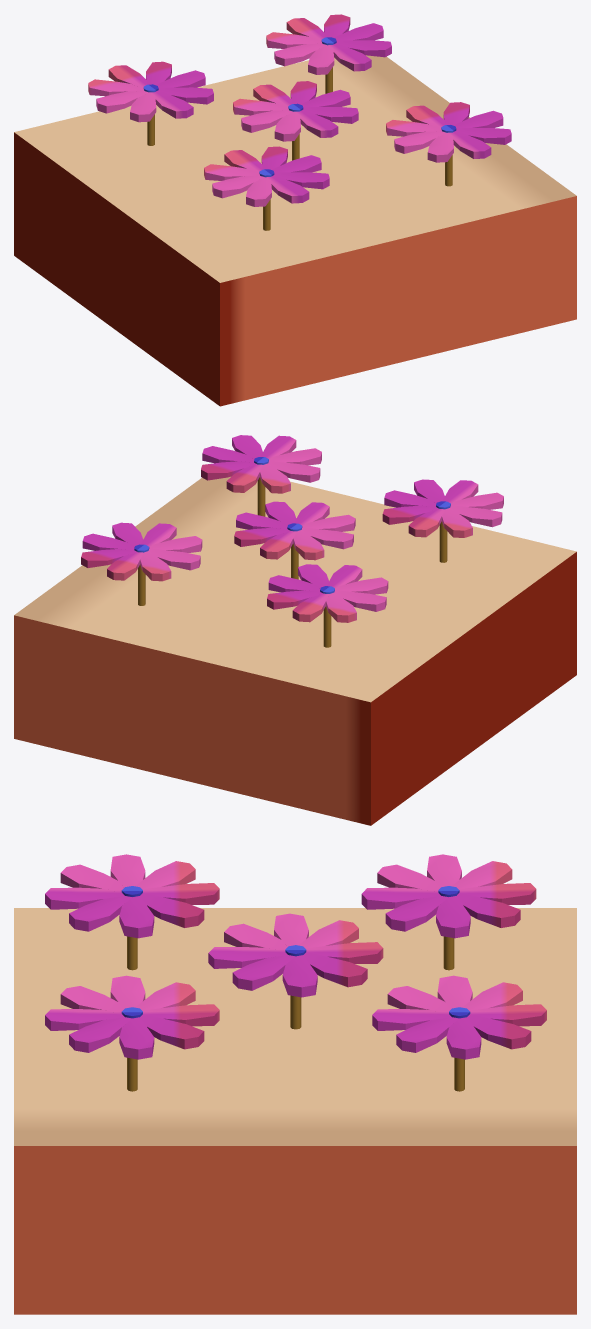
The model's file is floor_daisy.fbx.
3 renders of one model, top to bottom at view 1: azimuth 30°, elevation 25°; view 2: azimuth 150°, elevation 25°; view 3: azimuth 270°, elevation 25°, orthographic. The views are drawn at different scales.
Visible parts, largest first — view 1: floor_daisy; view 2: floor_daisy; view 3: floor_daisy.
Part boxes in pixels (x1,y1,x2,y2): floor_daisy: (14, 14, 576, 406); floor_daisy: (14, 435, 576, 825); floor_daisy: (14, 854, 576, 1314).
Size of the model in its own units: 100 by 100 by 48.3.
